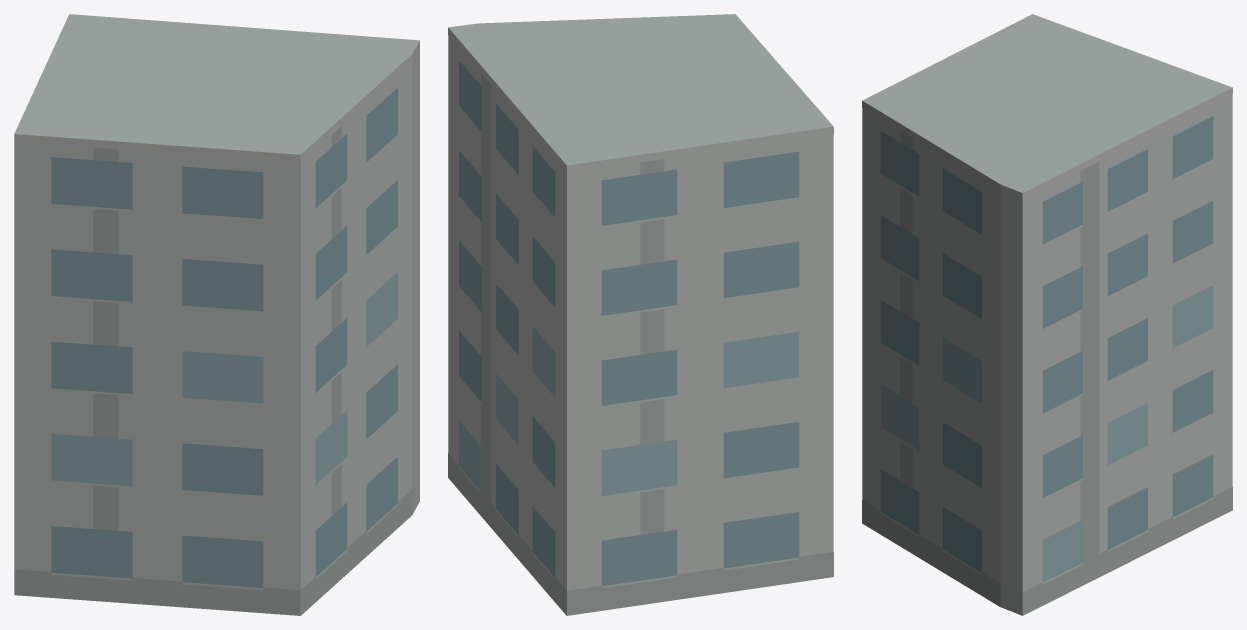
Rendered from survey-upis-32962718.glb.
3 renders of one model, left to right at view 1: azimuth 30°, elevation 25°; view 2: azimuth 150°, elevation 25°; view 3: azimuth 270°, elevation 25°, orthographic. The views are drawn at different scales.
Parts seen in each view (by area): view 1: survey-upis-32962718.tmp; view 2: survey-upis-32962718.tmp; view 3: survey-upis-32962718.tmp.
Part boxes in pixels (left/top/right/bottom): survey-upis-32962718.tmp: left=14, top=14, right=419, bottom=615; survey-upis-32962718.tmp: left=448, top=14, right=833, bottom=615; survey-upis-32962718.tmp: left=862, top=14, right=1232, bottom=615.
Size of the model in its own units: 13 by 14.3 by 11.37.
